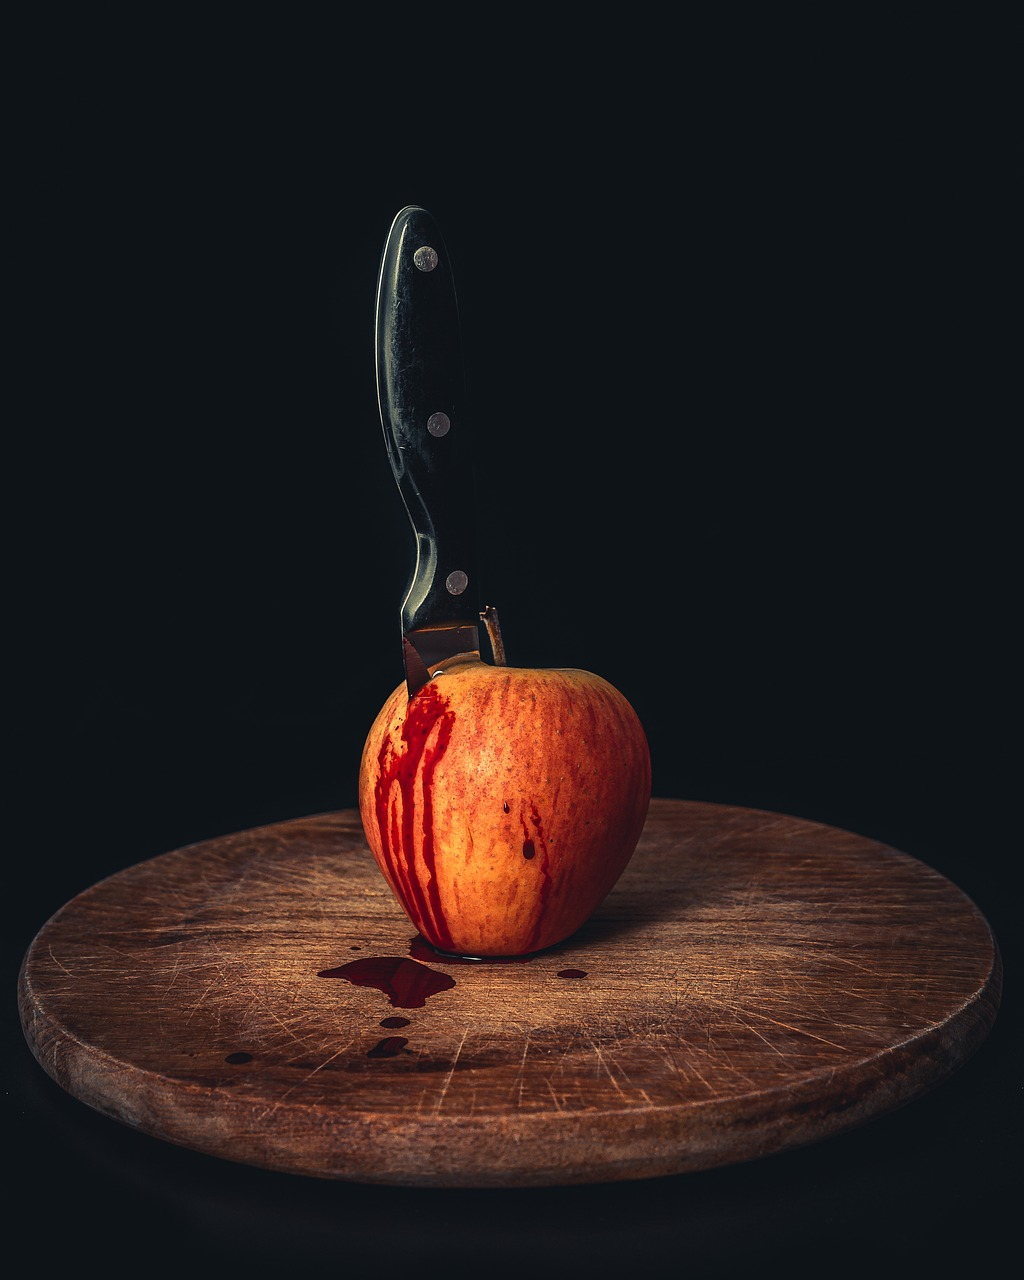blood: (373, 674, 557, 965), (215, 948, 585, 1075)
knife: (371, 197, 514, 717)
